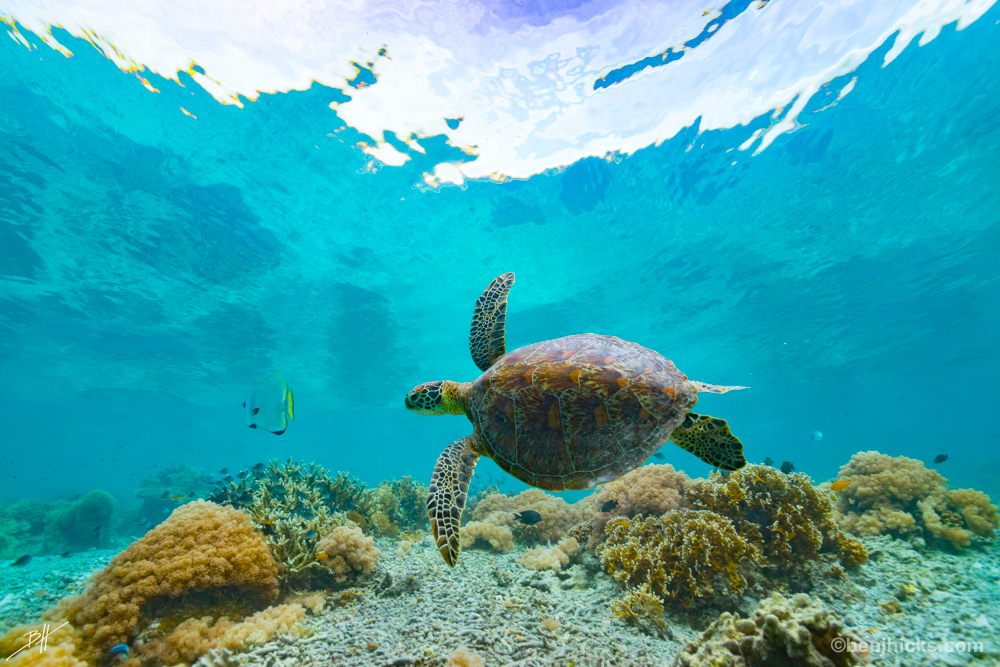fish: (227, 371, 302, 443)
trutle: (388, 266, 773, 565)
